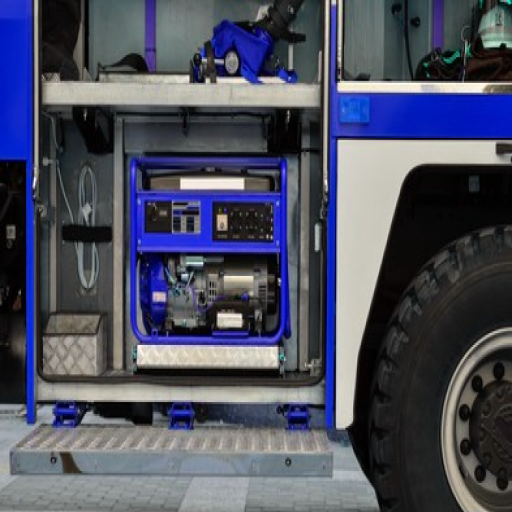portable_generator: (130, 154, 290, 345)
